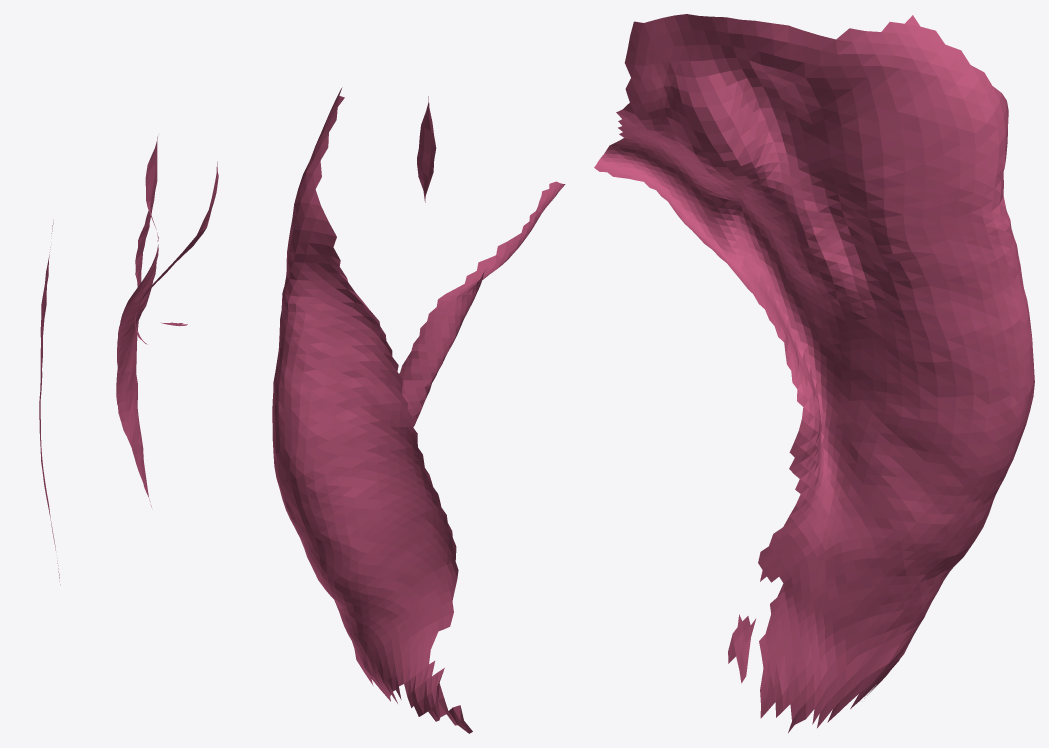
File: lh_medialorbitofrontal.glb
The picture shows the model from 3 angles, left to right: view 1: azimuth 30°, elevation 25°; view 2: azimuth 150°, elevation 25°; view 3: azimuth 270°, elevation 25°; orthographic projection. The views are drawn at different scales.
Visible parts, largest first — view 1: world; view 2: world; view 3: world.
Part boxes in pixels (<box>): world: <box>39,137,218,584</box>; world: <box>272,87,565,733</box>; world: <box>594,14,1034,732</box>.
Bounding box in the file's own units: 13.39 × 56.25 × 31.21.
